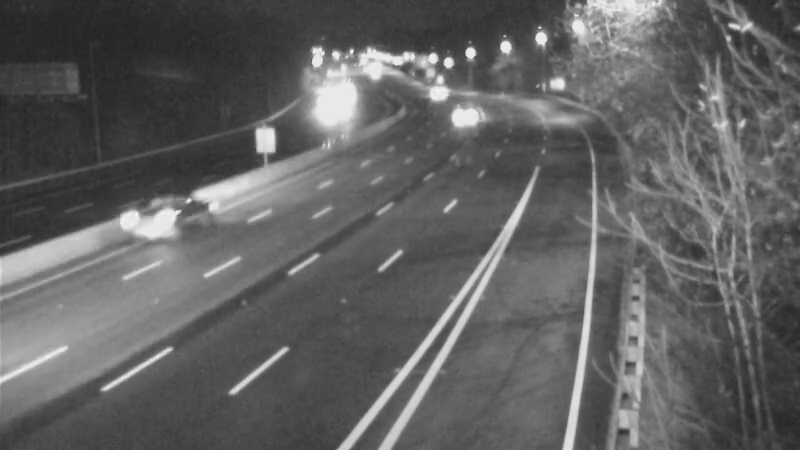vehicle: (108, 176, 188, 256), (411, 68, 461, 118), (429, 94, 479, 144)
